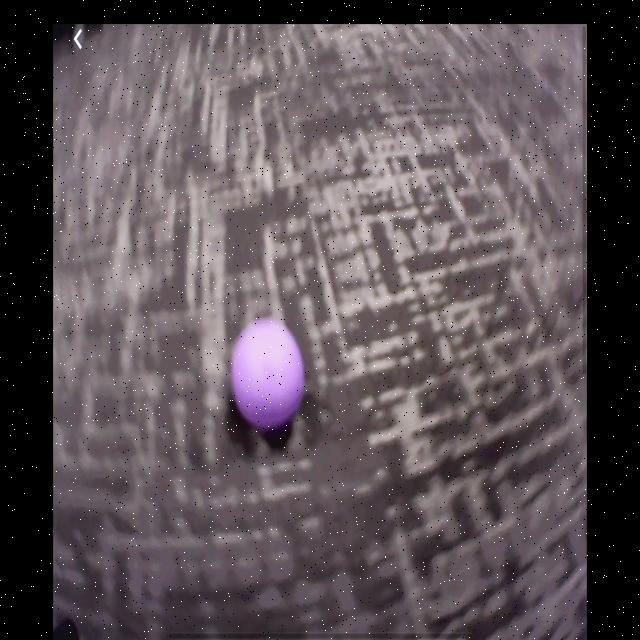ball: (232, 317, 305, 425)
